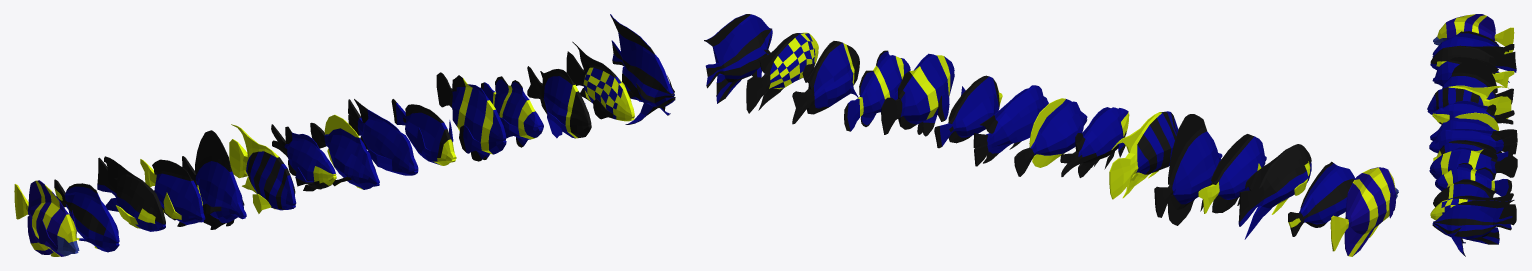
Rendered from More_Fish_Models.fbx.
The picture shows the model from 3 angles, left to right: view 1: azimuth 30°, elevation 25°; view 2: azimuth 150°, elevation 25°; view 3: azimuth 270°, elevation 25°; orthographic projection. The views are drawn at different scales.
Visible parts, largest first — view 1: Small_Fish10, Small_Fish04, Small_Fish14, Small_Fish05, Sirius_Angel_Fish, Small_Fish02, Small_Fish12, Small_Fish07, Small_Fish08, Small_Fish13, Small_Fish03, Small_Fish01 (+3 smaller); view 2: Small_Fish04, Small_Fish10, Small_Fish14, Sirius_Angel_Fish, Small_Fish02, Small_Fish05, Small_Fish12, Small_Fish13, Small_Fish07, Small_Fish08, Small_Fish03, Small_Fish06 (+3 smaller); view 3: Small_Fish14, Small_Fish10, Small_Fish05, Sirius_Angel_Fish, Small_Fish02, Small_Fish08, Small_Fish04, Small_Fish11, Small_Fish06, Small_Fish07, Small_Fish12, Small_Fish03 (+3 smaller).
Boxes of the visible parts, left/top/right/bottom form: Small_Fish10: left=436, top=72, right=506, bottom=161; Small_Fish04: left=182, top=130, right=246, bottom=229; Small_Fish14: left=610, top=14, right=675, bottom=124; Small_Fish05: left=229, top=124, right=296, bottom=213; Sirius_Angel_Fish: left=14, top=180, right=79, bottom=256; Small_Fish02: left=97, top=156, right=165, bottom=231; Small_Fish12: left=527, top=66, right=591, bottom=138; Small_Fish07: left=310, top=114, right=379, bottom=189; Small_Fish08: left=348, top=99, right=418, bottom=175; Small_Fish13: left=566, top=41, right=634, bottom=121; Small_Fish03: left=140, top=159, right=205, bottom=226; Small_Fish01: left=54, top=179, right=119, bottom=252; Small_Fish04: left=1154, top=114, right=1222, bottom=225; Small_Fish10: left=881, top=53, right=954, bottom=136; Small_Fish14: left=704, top=14, right=772, bottom=103; Sirius_Angel_Fish: left=1330, top=167, right=1398, bottom=256; Small_Fish02: left=1238, top=144, right=1311, bottom=239; Small_Fish05: left=1109, top=111, right=1178, bottom=199; Small_Fish12: left=792, top=41, right=859, bottom=124; Small_Fish13: left=746, top=32, right=818, bottom=113; Small_Fish07: left=1014, top=98, right=1087, bottom=176; Small_Fish08: left=973, top=85, right=1048, bottom=166; Small_Fish03: left=1198, top=134, right=1266, bottom=213; Small_Fish06: left=1060, top=107, right=1129, bottom=177; Small_Fish14: left=1432, top=200, right=1514, bottom=256; Small_Fish10: left=1429, top=147, right=1517, bottom=180; Small_Fish05: left=1427, top=85, right=1511, bottom=118; Sirius_Angel_Fish: left=1433, top=14, right=1514, bottom=46; Small_Fish02: left=1430, top=45, right=1516, bottom=82; Small_Fish08: left=1429, top=128, right=1517, bottom=154; Small_Fish04: left=1442, top=58, right=1513, bottom=104; Small_Fish11: left=1435, top=163, right=1511, bottom=196; Small_Fish06: left=1432, top=100, right=1514, bottom=124; Small_Fish07: left=1430, top=112, right=1516, bottom=140; Small_Fish12: left=1433, top=179, right=1513, bottom=207; Small_Fish03: left=1432, top=57, right=1514, bottom=87.
Size of the model in its own units: 26.41 by 3.89 by 5.06.
